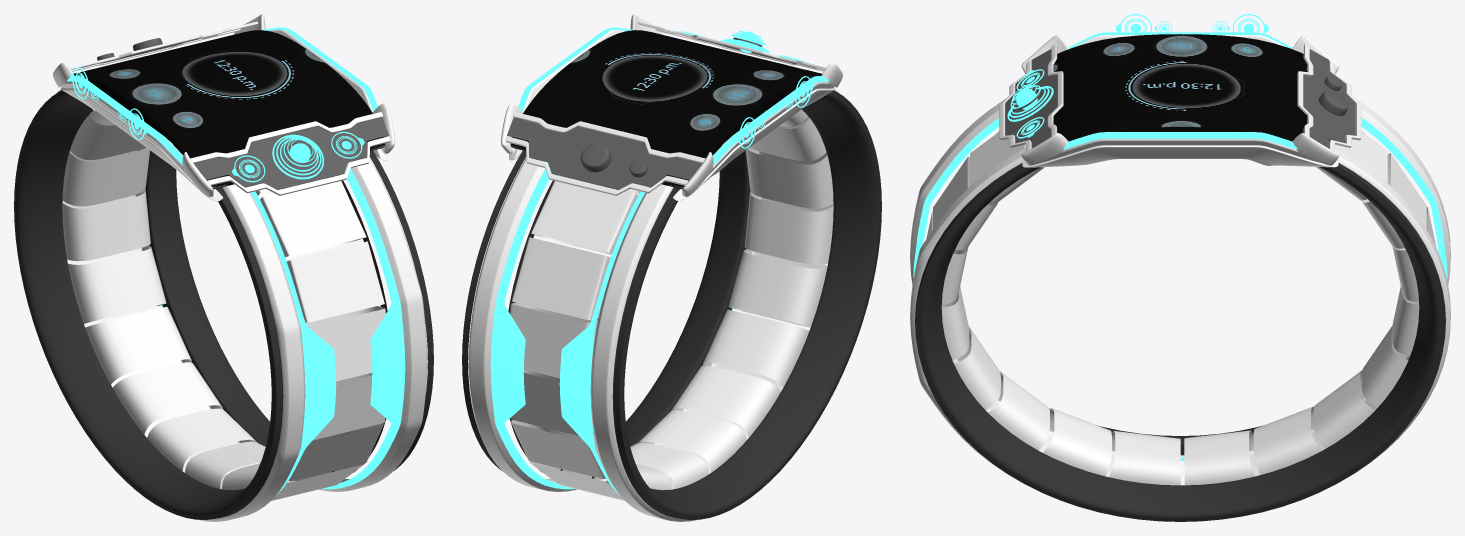
The model's file is WATCH.glb.
3 renders of one model, left to right at view 1: azimuth 30°, elevation 25°; view 2: azimuth 150°, elevation 25°; view 3: azimuth 270°, elevation 25°, orthographic.
Parts seen in each view (by area): view 1: polySurface4, polySurface8, pCylinder3, polySurface7, polySurface13, polySurface10, polySurface11, polySurface2, pCylinder21, pCube1, pCube2, pCube4; view 2: polySurface4, polySurface8, pCylinder3, polySurface7, polySurface13, polySurface10, polySurface11, polySurface2, pCube1, pCube2, pCube4, pCylinder21 (+1 smaller); view 3: polySurface4, polySurface8, pCylinder3, polySurface7, polySurface2, polySurface13, polySurface11, pCube4, pCylinder21, pCube2, pCube1.
Boxes of the visible parts, <box> form: polySurface4: <box>62,110,385,500</box>; polySurface8: <box>14,90,433,519</box>; pCylinder3: <box>74,30,385,189</box>; polySurface7: <box>56,89,427,521</box>; polySurface13: <box>81,37,388,189</box>; polySurface10: <box>161,163,405,489</box>; polySurface11: <box>248,186,336,495</box>; polySurface2: <box>61,27,387,201</box>; pCylinder21: <box>70,67,364,182</box>; pCube1: <box>69,21,382,163</box>; pCube2: <box>71,28,390,195</box>; pCube4: <box>53,14,394,196</box>; polySurface4: <box>510,109,833,500</box>; polySurface8: <box>462,90,881,519</box>; pCylinder3: <box>510,30,821,189</box>; polySurface7: <box>468,89,839,521</box>; polySurface13: <box>507,37,814,189</box>; polySurface10: <box>490,163,732,489</box>; polySurface11: <box>559,186,647,495</box>; polySurface2: <box>509,27,835,200</box>; pCube1: <box>513,21,826,163</box>; pCube2: <box>505,28,824,195</box>; pCube4: <box>501,14,842,196</box>; pCylinder21: <box>680,30,813,148</box>; polySurface4: <box>926,132,1435,485</box>; polySurface8: <box>915,132,1445,521</box>; pCylinder3: <box>1030,34,1330,141</box>; polySurface7: <box>910,98,1450,473</box>; polySurface2: <box>1022,32,1338,167</box>; polySurface13: <box>1005,49,1355,148</box>; polySurface11: <box>913,118,1447,460</box>; pCube4: <box>1021,35,1339,165</box>; pCylinder21: <box>1007,14,1268,138</box>; pCube2: <box>999,60,1361,151</box>; pCube1: <box>1047,44,1313,136</box>.
Bounding box in the file's own units: 0.0114 × 0.0209 × 0.0245.
Materials: 5 (1 with a texture image).
